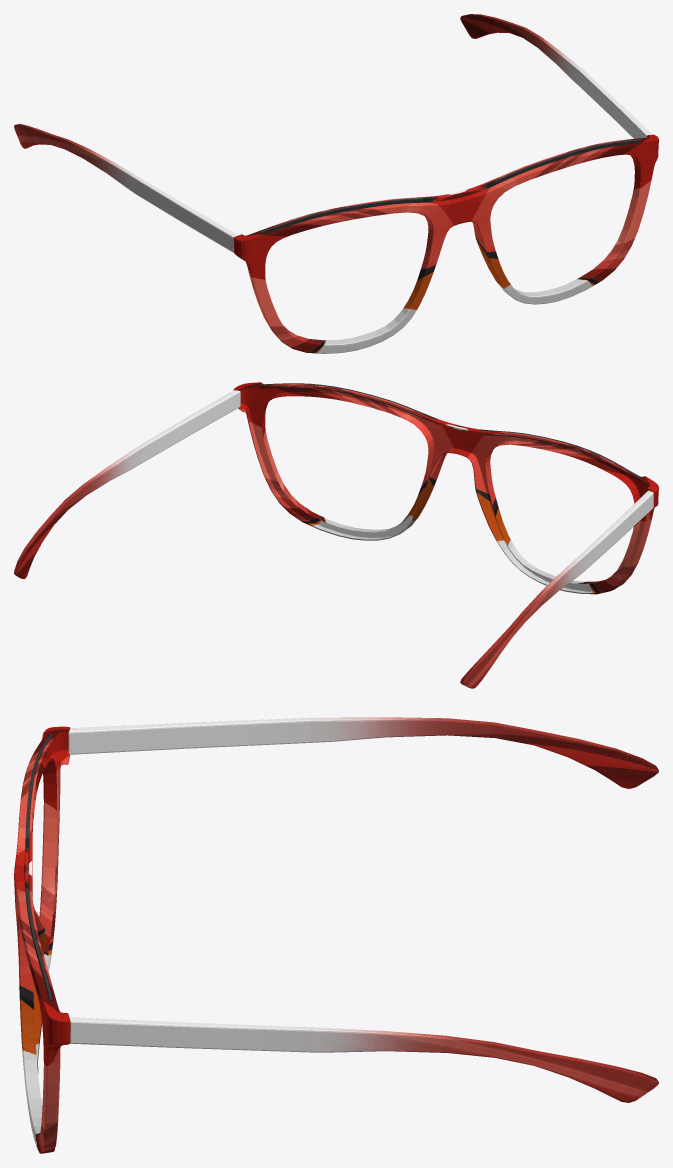
File: kacamata_sport.glb
3 renders of one model, top to bottom at view 1: azimuth 30°, elevation 25°; view 2: azimuth 150°, elevation 25°; view 3: azimuth 270°, elevation 25°, orthographic. The views are drawn at different scales.
Size of the model in its own units: 16.26 by 4.9 by 13.72.
Materials: 1 (1 with a texture image).
